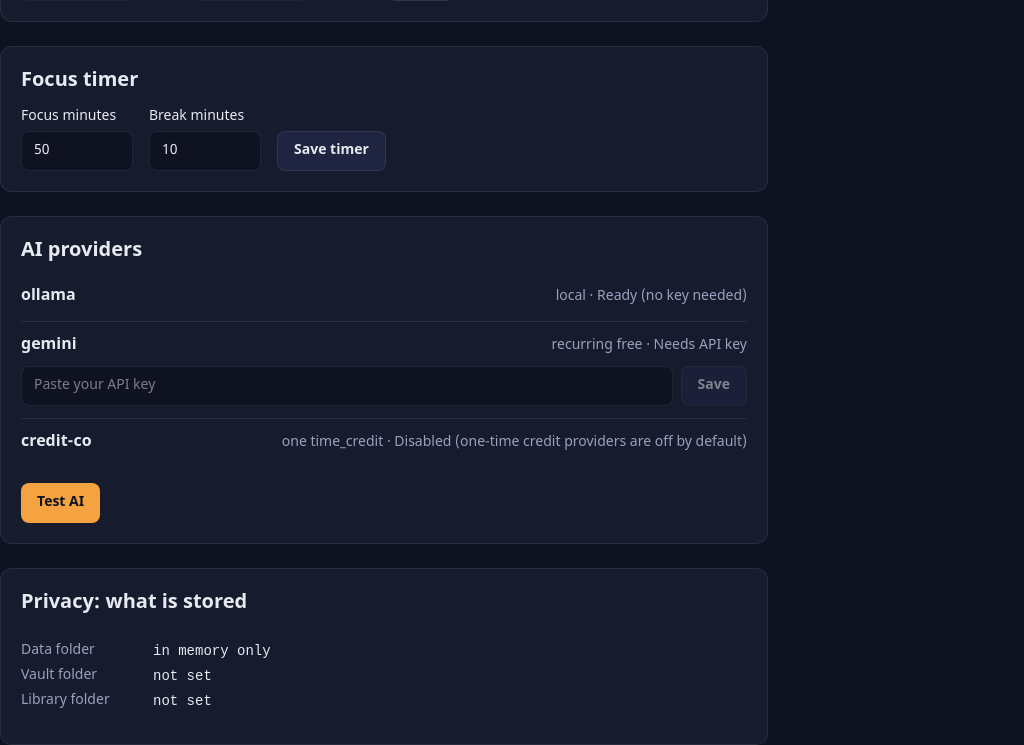
Test: Settings screen › Test AI shows the provider and answer, or the failure reason
Later steps or results of the test are not shown.
(page scrolled)
Click the button "Test AI": (61, 503) [21,483,100,523]
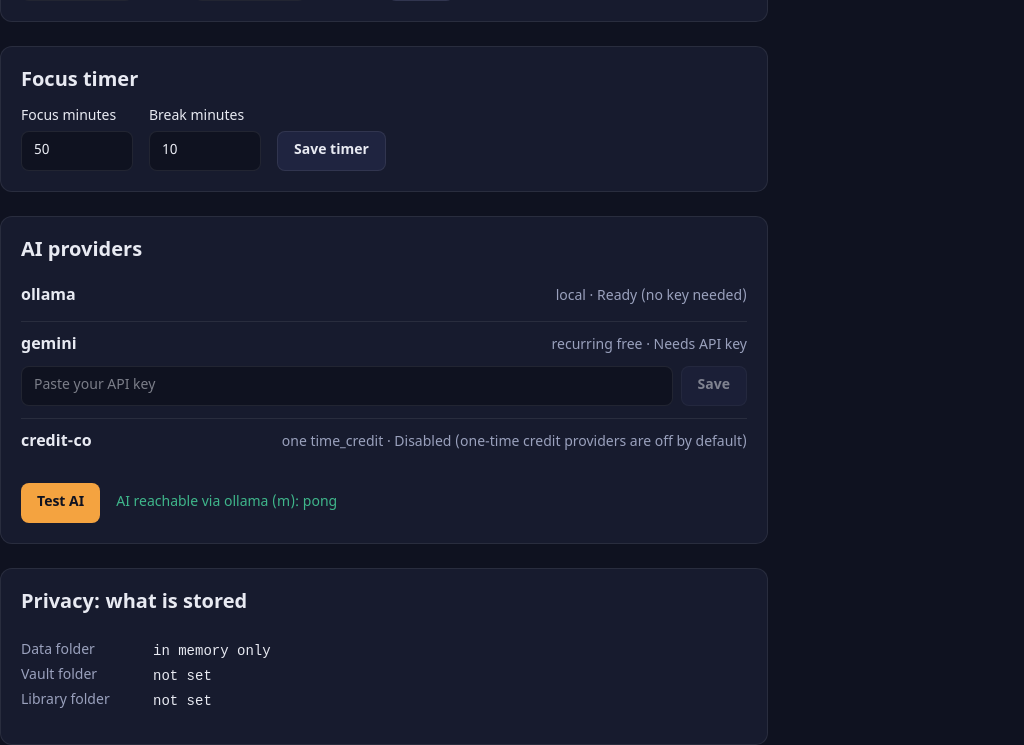
Result: the text "AI reachable via ollama (m): pong" is shown at [116,493,337,513]
